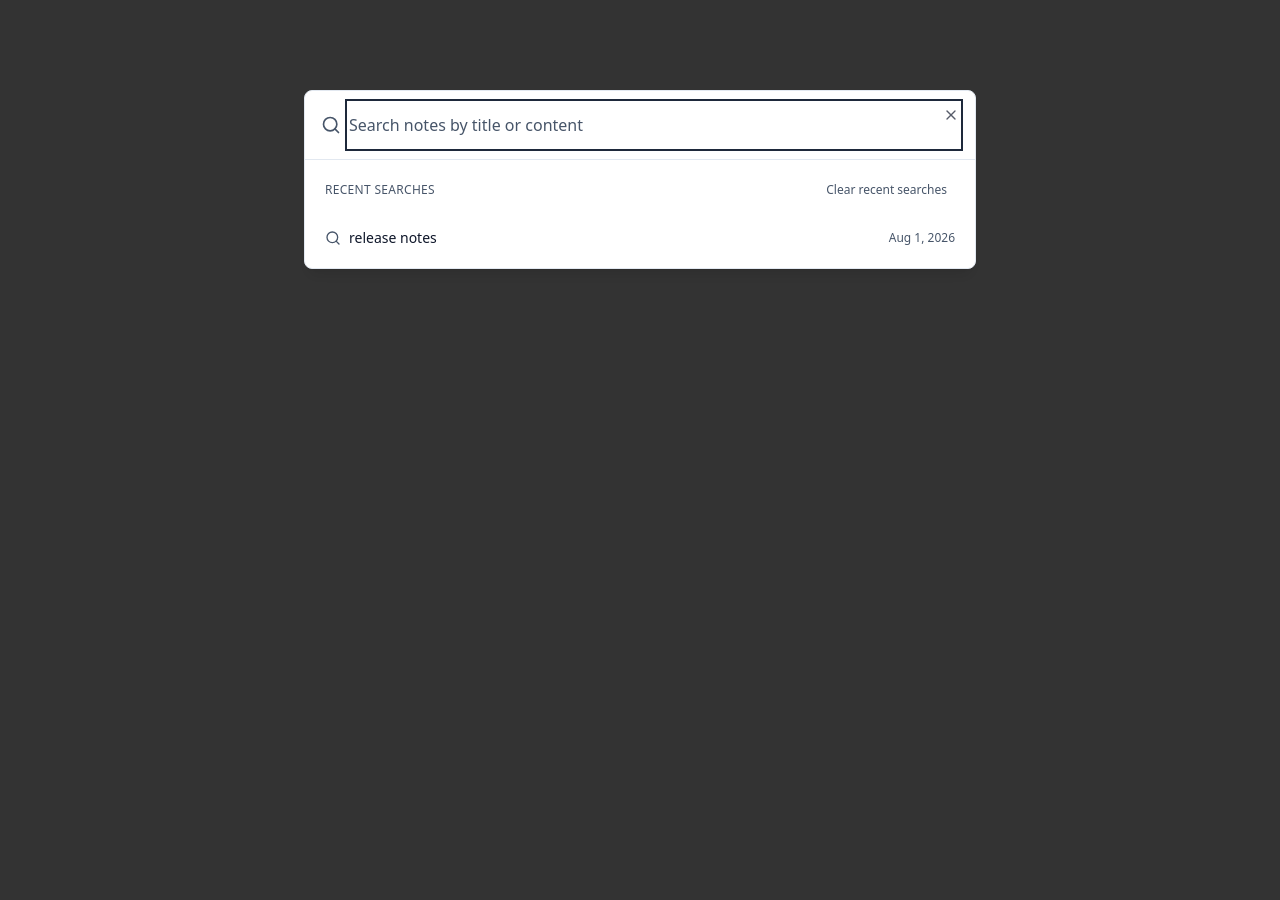
Test: GlobalSearchDialog › shows recent searches when the query is empty and lets the user clear them
Check: the text "release notes" is shown, box x1=349 y1=228 x2=437 y2=247
Click the button "Clear recent searches" at (887, 190), box x1=818 y1=172 x2=955 y2=208
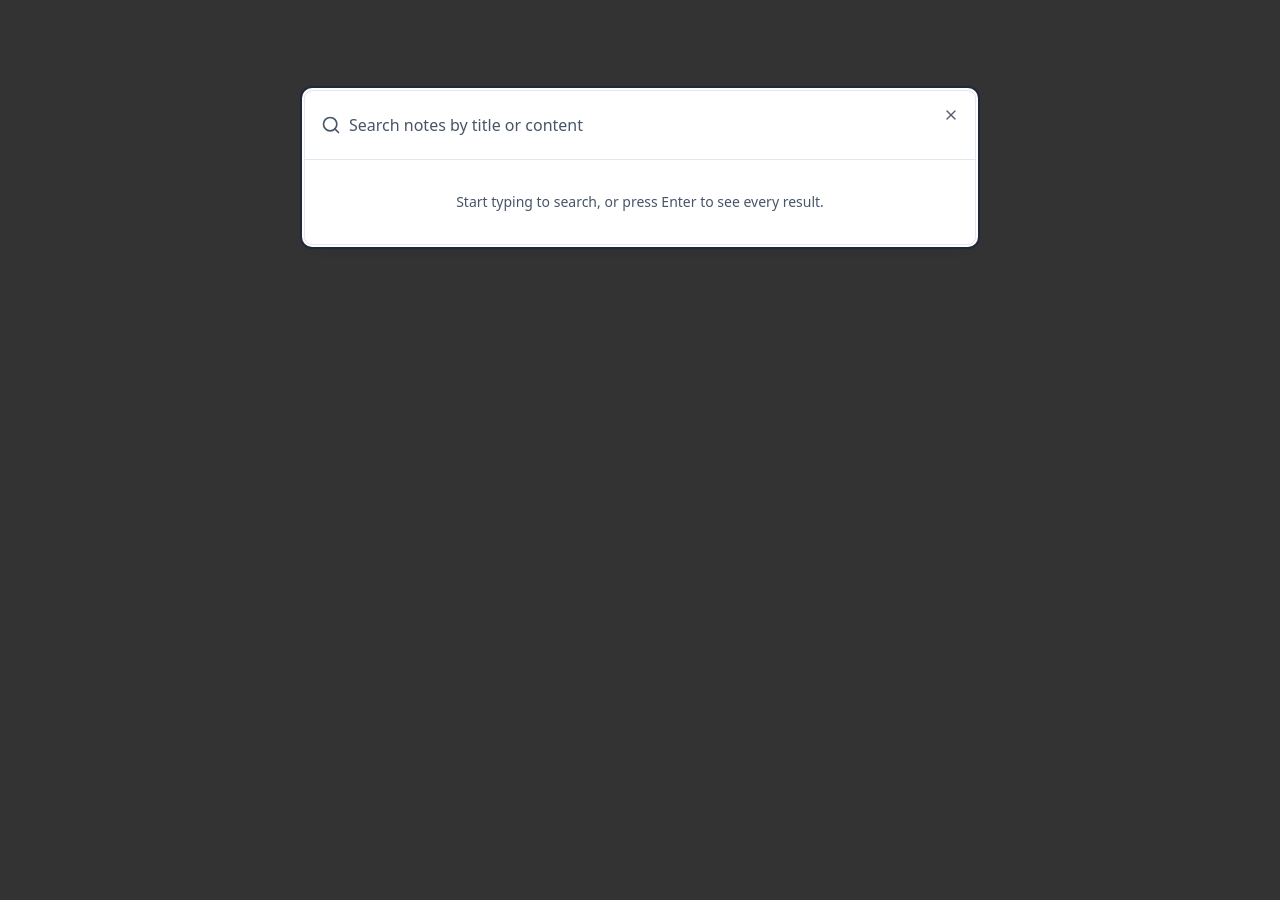
Check: the button "release notes" is gone
